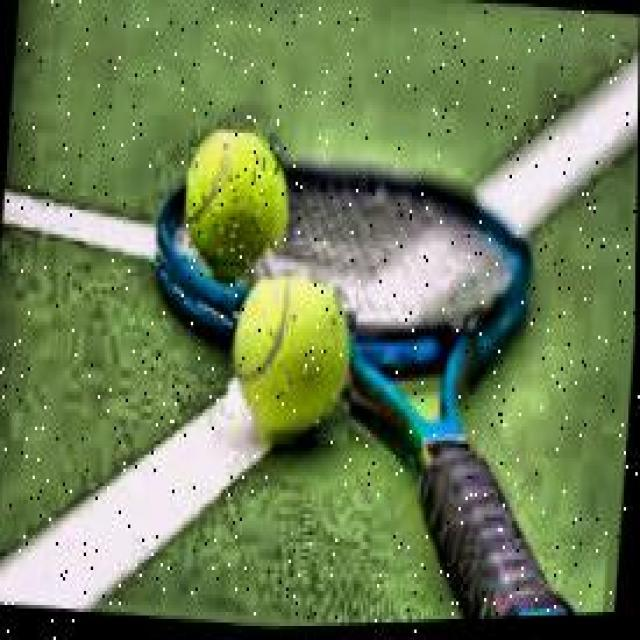tennis-ball: (224, 274, 362, 456), (182, 125, 288, 284)
